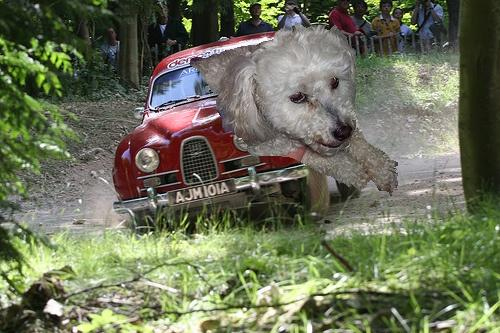tampered: (190, 23, 398, 196)
